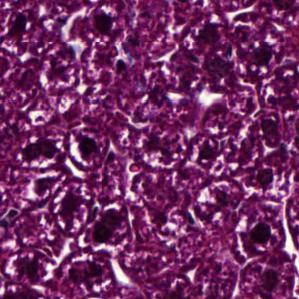inflammation: (59, 3, 124, 48), (77, 203, 131, 254), (232, 211, 281, 262), (68, 122, 109, 170)
